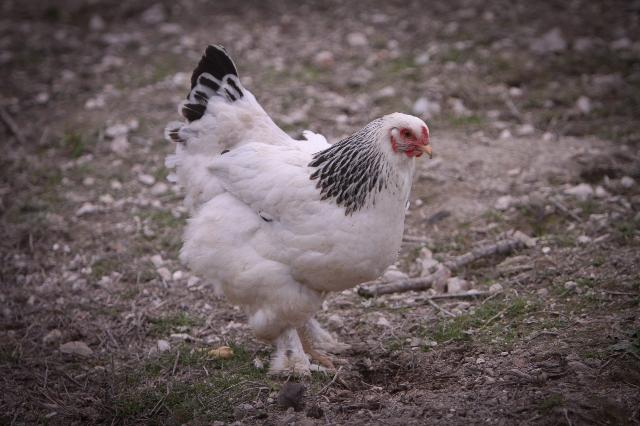Chicken: (167, 40, 433, 376)
